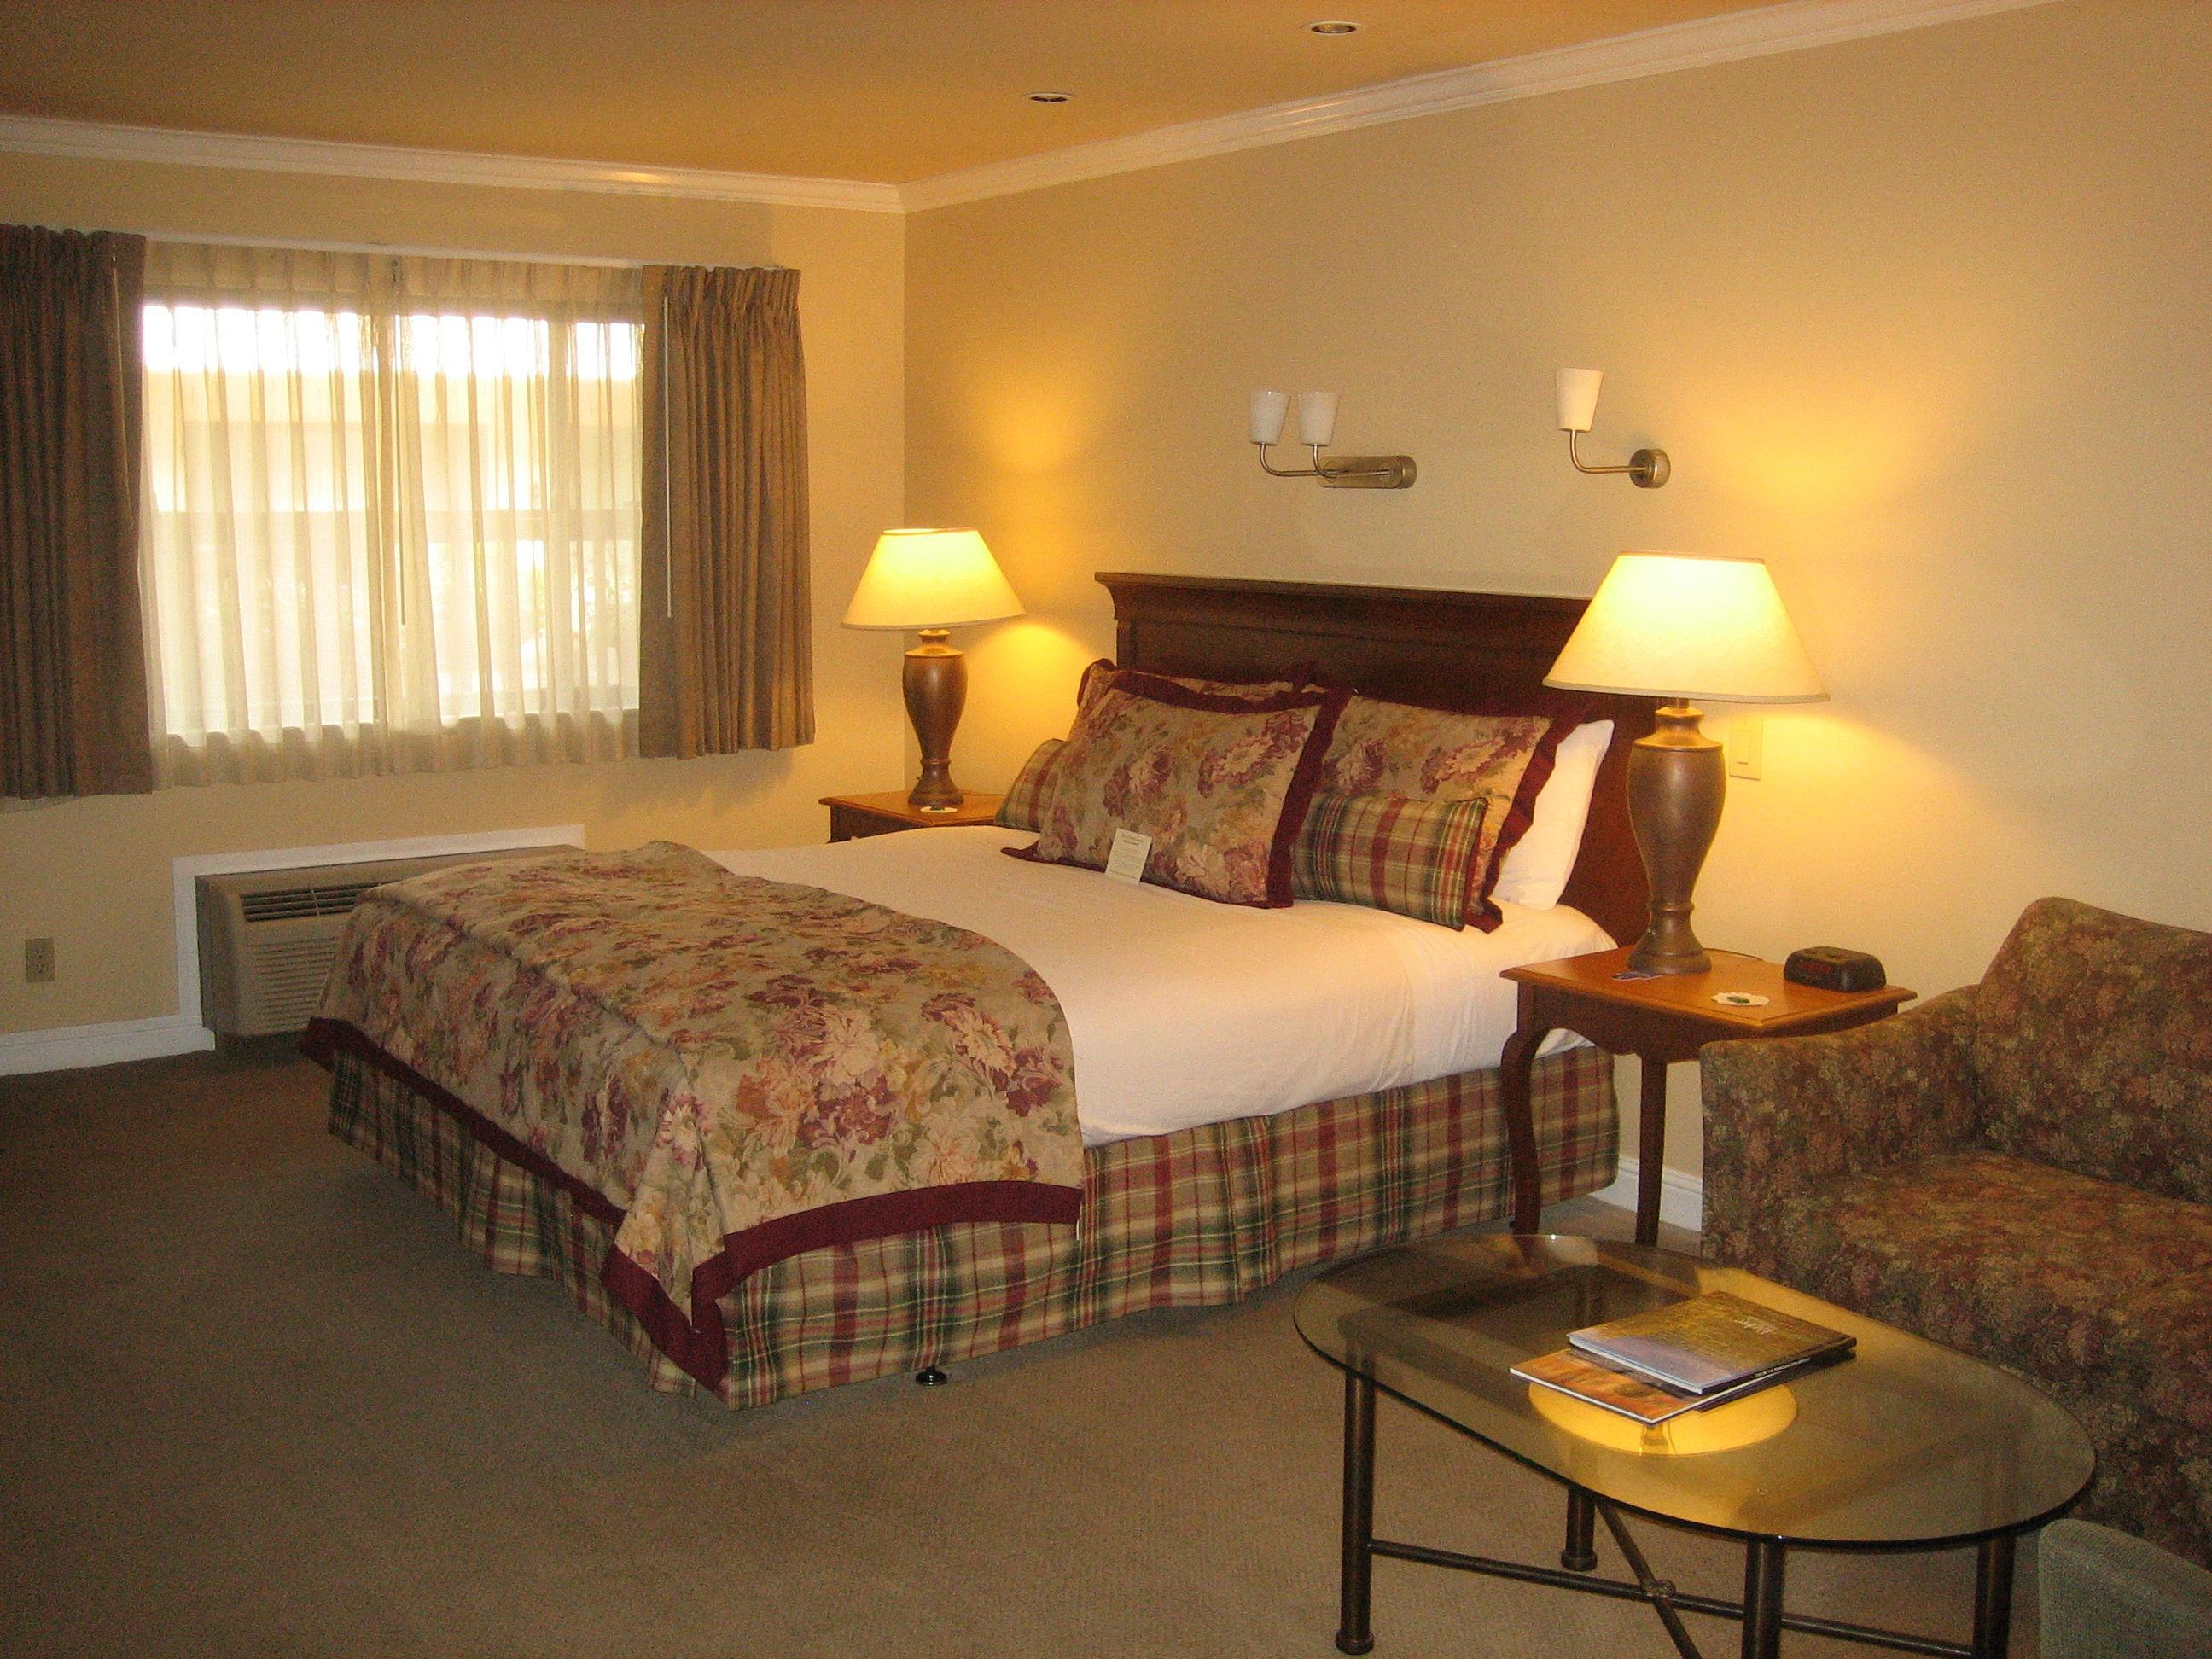Cama: (326, 599, 1663, 1349)
Ventana: (37, 239, 758, 749)
